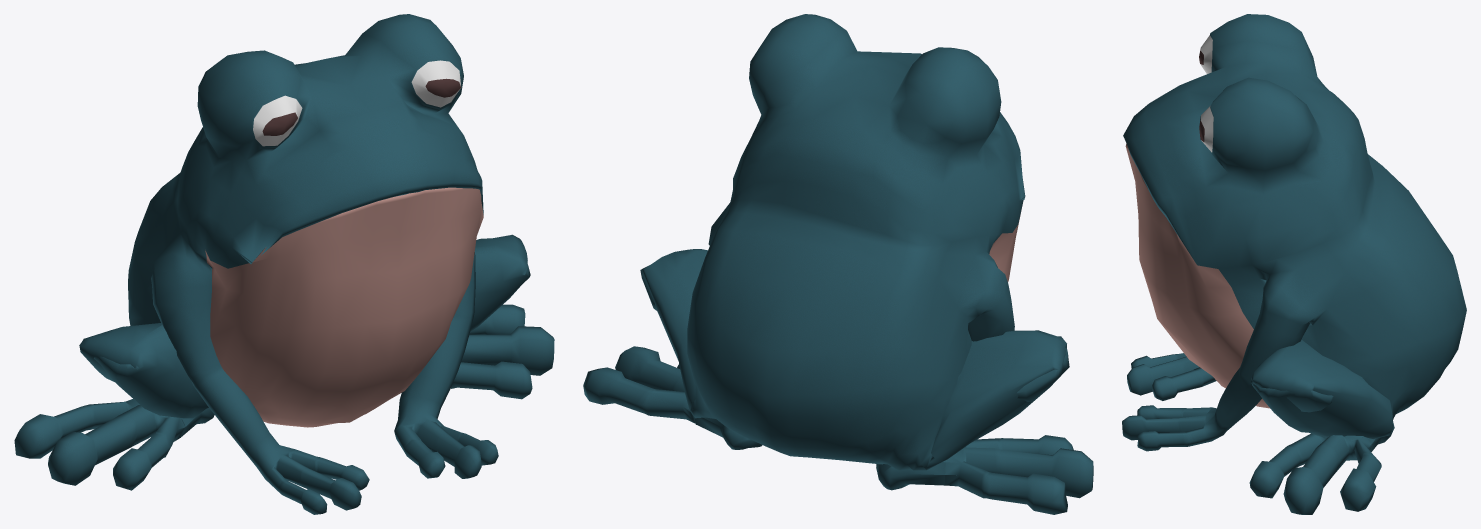
File: 1stsmallfrog.fbx
3 views of the same model, side by side, from view 1: azimuth 30°, elevation 25°; view 2: azimuth 150°, elevation 25°; view 3: azimuth 270°, elevation 25° (orthographic). The views are drawn at different scales.
Visible parts, largest first — view 1: polySurface2; view 2: polySurface2; view 3: polySurface2.
Part boxes in pixels (<box>): polySurface2: <box>14,14,554,514</box>; polySurface2: <box>583,14,1093,514</box>; polySurface2: <box>1122,14,1466,514</box>.
Size of the model in its own units: 0.0311 by 0.024 by 0.0205.
Materials: 4 (1 with a texture image).
